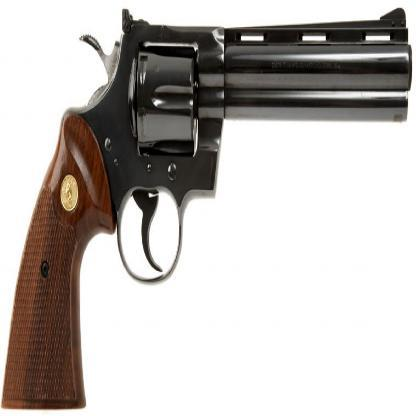gun: (2, 2, 416, 407)
